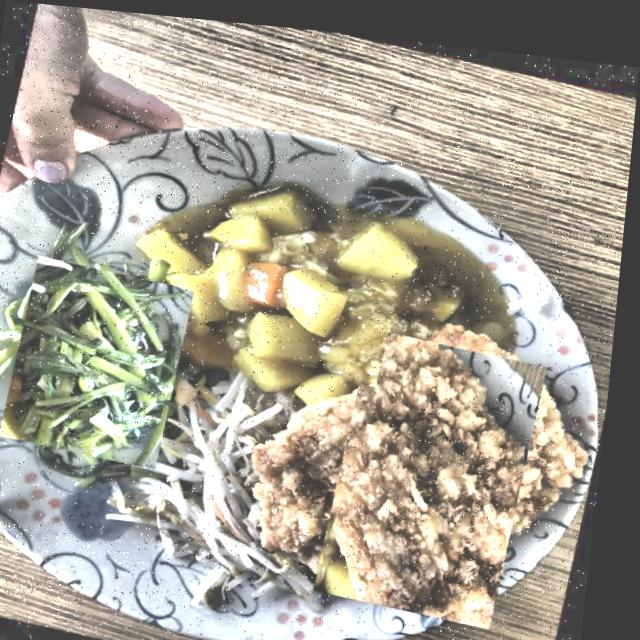Food: (303, 334, 572, 603), (185, 188, 414, 379), (5, 251, 201, 468), (147, 403, 283, 610)
